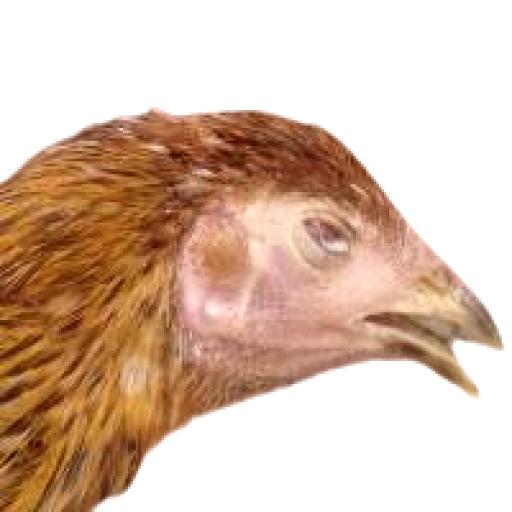disease: (238, 147, 386, 319)
